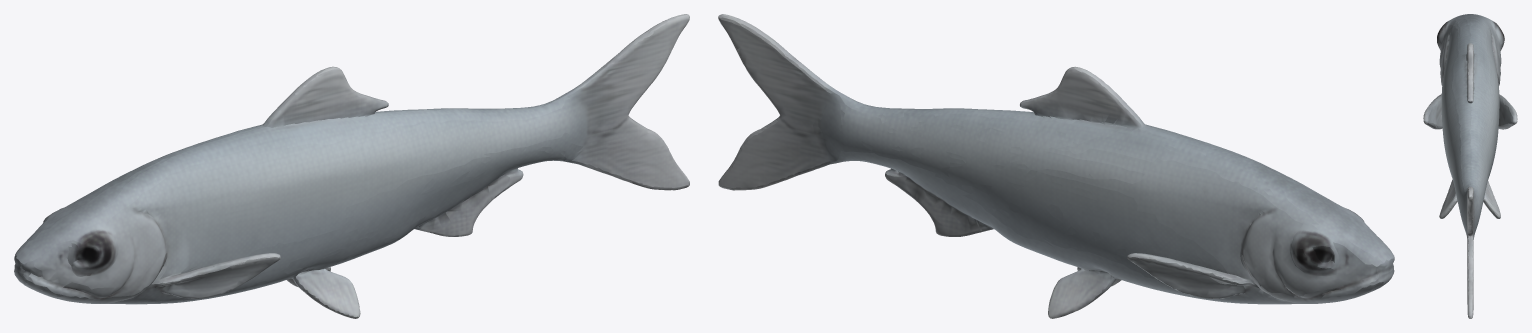
The model's file is fish_sedan.glb.
The picture shows the model from 3 angles, left to right: view 1: azimuth 30°, elevation 25°; view 2: azimuth 150°, elevation 25°; view 3: azimuth 270°, elevation 25°; orthographic projection. The views are drawn at different scales.
Visible parts, largest first — view 1: world; view 2: world; view 3: world.
Boxes of the visible parts, x1,y1,x2,y2 form: world: (14, 14, 689, 318); world: (718, 14, 1394, 318); world: (1423, 14, 1517, 318).
Bounding box in the file's own units: 0.3 × 0.1013 × 0.0506.
1 material, 1 textured.
